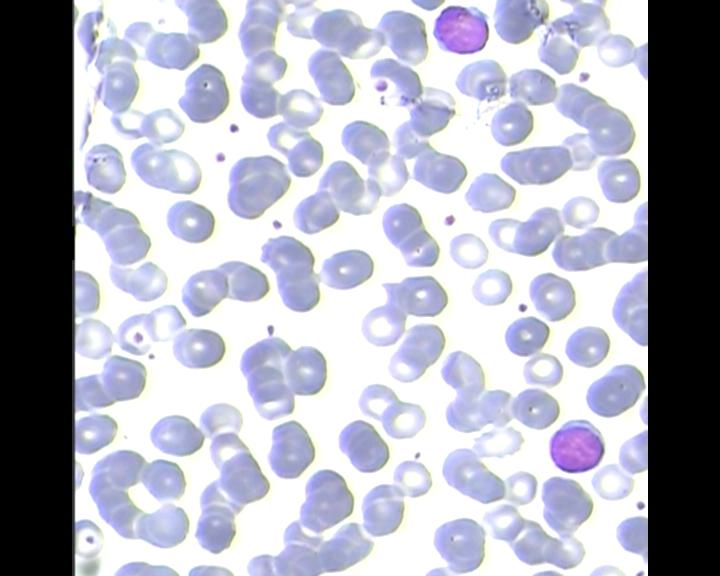lymp: (546, 412, 606, 476), (432, 1, 491, 57)
